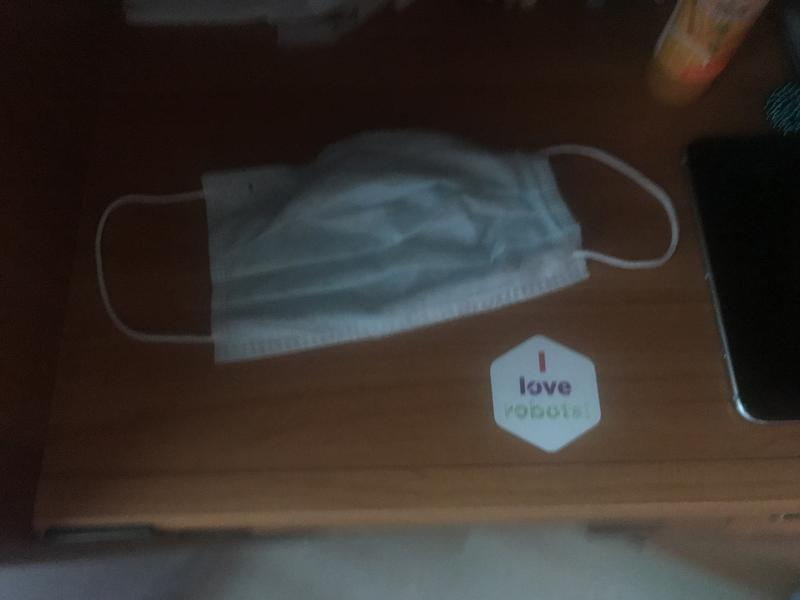medical_mask: (97, 128, 678, 348)
